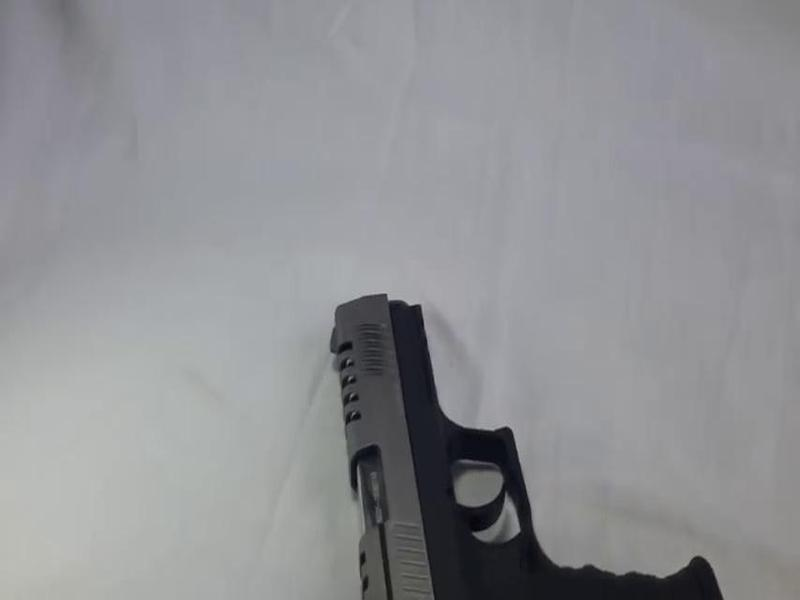Pistola: (288, 262, 572, 600)
